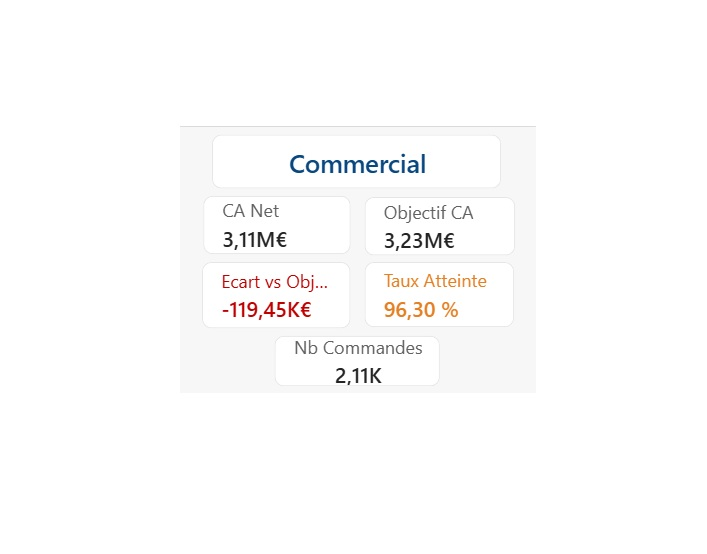

What the dashboard file says about the page in this screenshot:
{"tool":"powerbi","page":{"name":"Tooltip Commercial","canvas":[320,240],"ordinal":4},"visuals":[{"type":"cardVisual","fields":{"Data":["Mesures.Commercial Tooltip"]},"box":[31.2,6.2,257.1,48.6],"z":0},{"type":"cardVisual","fields":{"Data":["Mesures.CA Net"]},"box":[23,61.5,131,52],"z":1},{"type":"cardVisual","fields":{"Data":["Mesures.Objectif CA"]},"box":[167.1,61.8,134,52],"z":2},{"type":"cardVisual","fields":{"Data":["Mesures.Ecart Objectif"]},"box":[22,120.5,132,59],"z":3},{"type":"cardVisual","fields":{"Data":["Mesures.Taux Atteinte"]},"box":[167.1,120.5,133.8,58.8],"z":4},{"type":"cardVisual","fields":{"Data":["Mesures.Nb Commandes"]},"box":[86.2,185,147.5,45],"z":5}]}

Visuals, with their boxes on the page's 320x240 design canvas (x1, y1, x2, y2). These are canvas units, not pixel positions in the 707x554 screenshot, which may show the page scaled, cropped or inside an application window:
cardVisual - Mesures.Commercial Tooltip: select_region(31, 6, 288, 55)
cardVisual - Mesures.CA Net: select_region(23, 62, 154, 114)
cardVisual - Mesures.Objectif CA: select_region(167, 62, 301, 114)
cardVisual - Mesures.Ecart Objectif: select_region(22, 120, 154, 180)
cardVisual - Mesures.Taux Atteinte: select_region(167, 120, 301, 179)
cardVisual - Mesures.Nb Commandes: select_region(86, 185, 234, 230)
